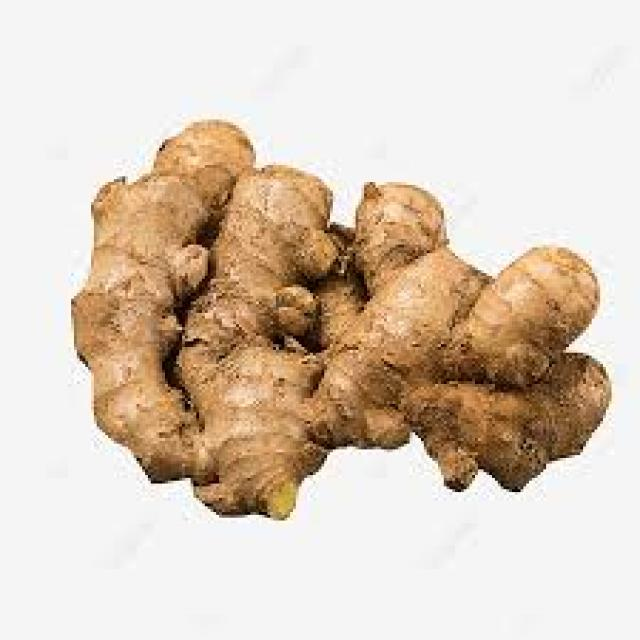ginger: (69, 108, 640, 572)
